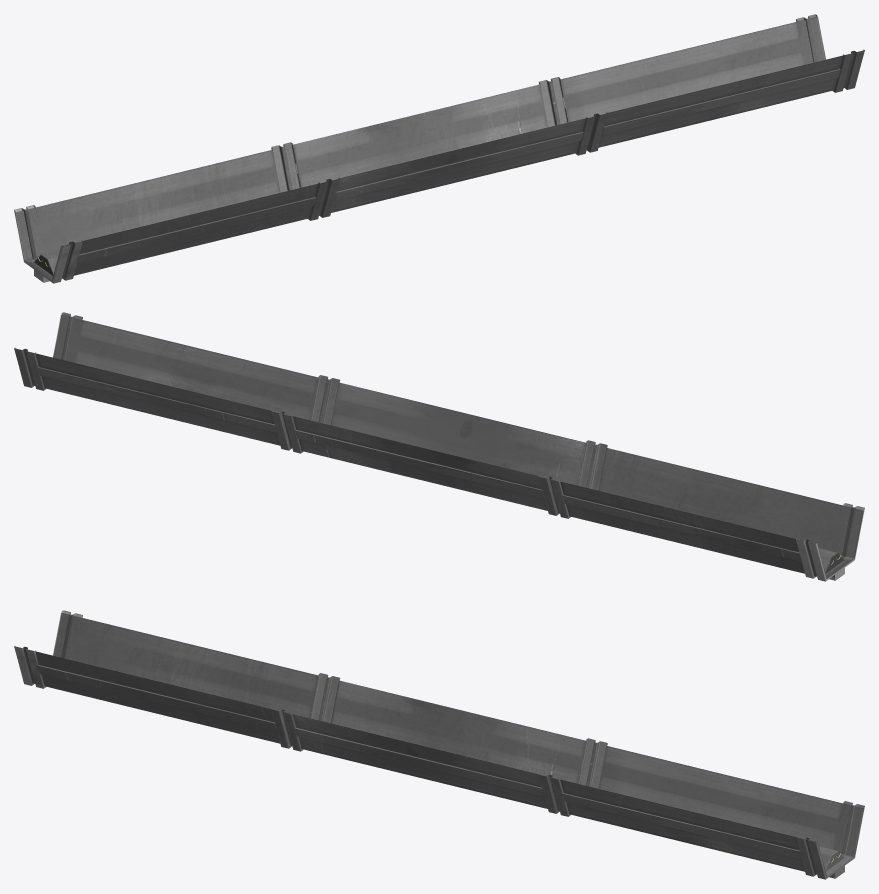
The model's file is ChamberIndividualLigth.fbx.
3 views of the same model, one above another, from view 1: azimuth 30°, elevation 25°; view 2: azimuth 150°, elevation 25°; view 3: azimuth 330°, elevation 25° (orthographic).
Parts seen in each view (by area): view 1: Roof_Ligths.001; view 2: Roof_Ligths.001; view 3: Roof_Ligths.001.
Part boxes in pixels (x1,y1,x2,y2): Roof_Ligths.001: (14,14,864,283); Roof_Ligths.001: (14,312,864,581); Roof_Ligths.001: (14,610,864,879).
Size of the model in its own units: 5000 by 307 by 535.
Materials: 2 (2 with a texture image).
